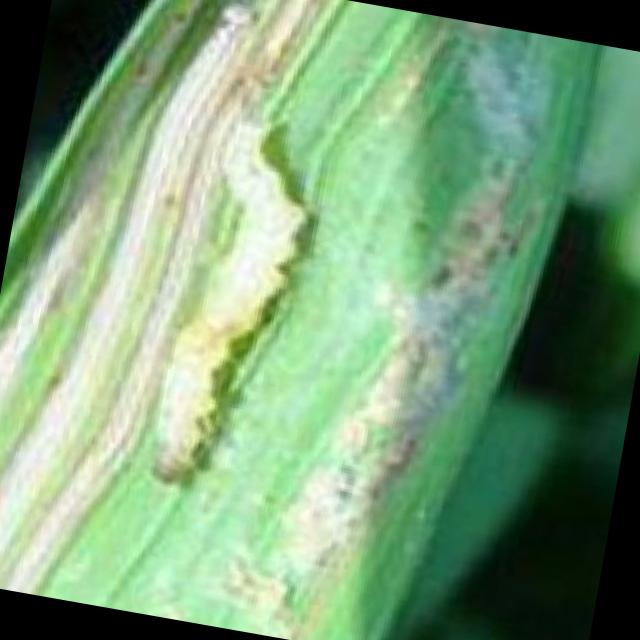leaf-folder: (90, 82, 360, 510)
